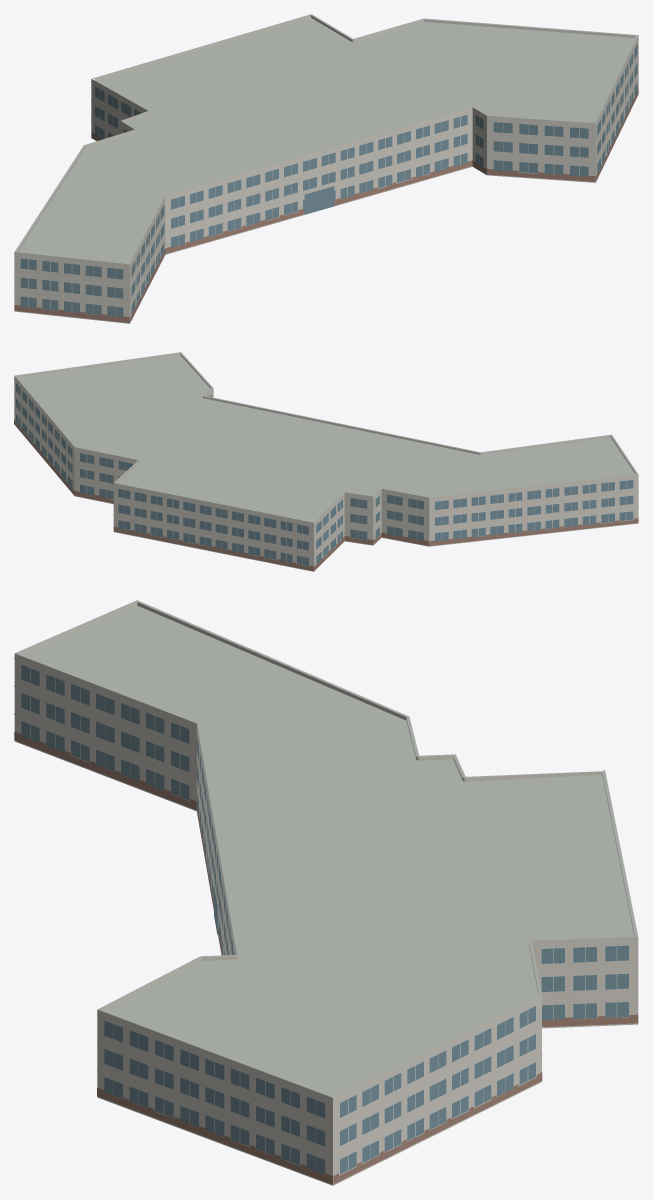
File: public-4d0cf868-2996-424f-8783-87b52d8f76ae.glb
3 views of the same model, one above another, from view 1: azimuth 30°, elevation 25°; view 2: azimuth 150°, elevation 25°; view 3: azimuth 270°, elevation 25° (orthographic). The views are drawn at different scales.
Visible parts, largest first — view 1: public-4d0cf868-2996-424f-8783-87b52d8f76ae; view 2: public-4d0cf868-2996-424f-8783-87b52d8f76ae; view 3: public-4d0cf868-2996-424f-8783-87b52d8f76ae.
Part boxes in pixels (x1,y1,x2,y2): public-4d0cf868-2996-424f-8783-87b52d8f76ae: [14, 14, 638, 323]; public-4d0cf868-2996-424f-8783-87b52d8f76ae: [14, 352, 638, 571]; public-4d0cf868-2996-424f-8783-87b52d8f76ae: [14, 600, 638, 1185].
Size of the model in its own units: 111 by 9.15 by 58.91.
